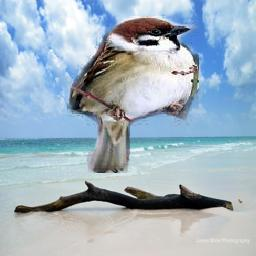Sparrow: (67, 17, 199, 174)
